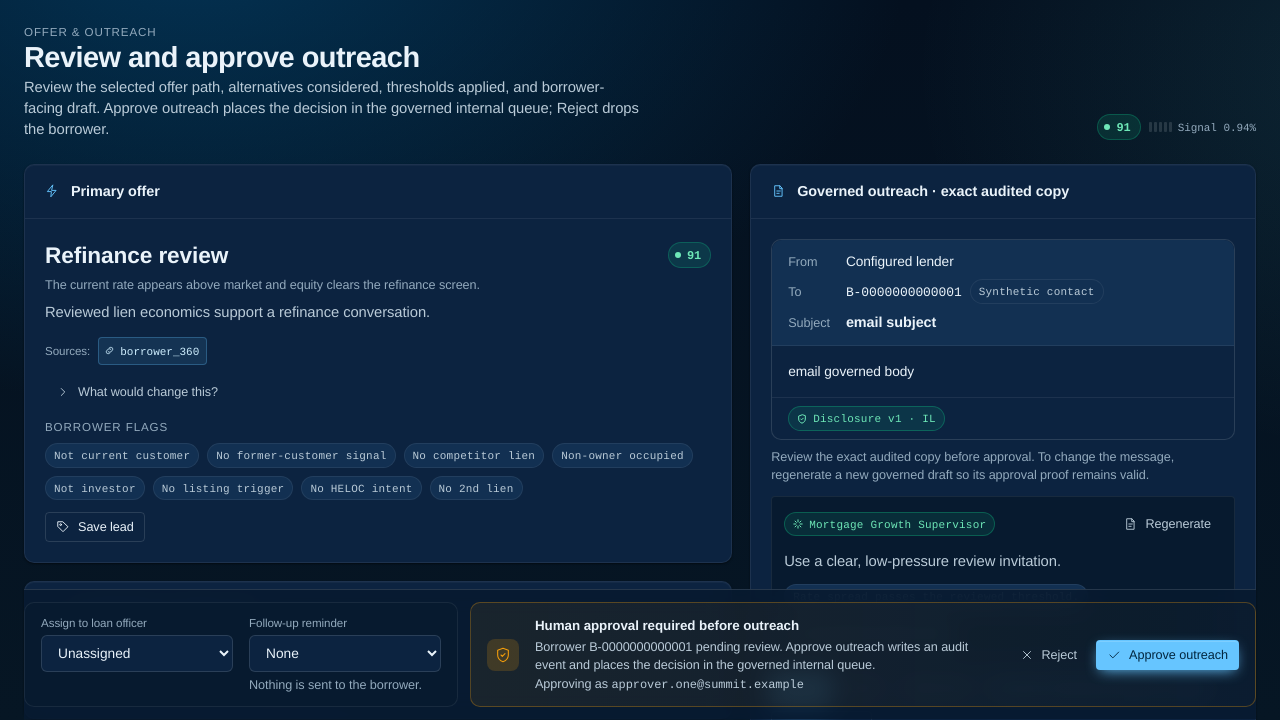
Test case: OfferOrchestrator route behavior › shows the durable audit reference after a rejection succeeds
Step 1. Click the button "Reject" → (1048, 655), box [1008,640,1088,670]
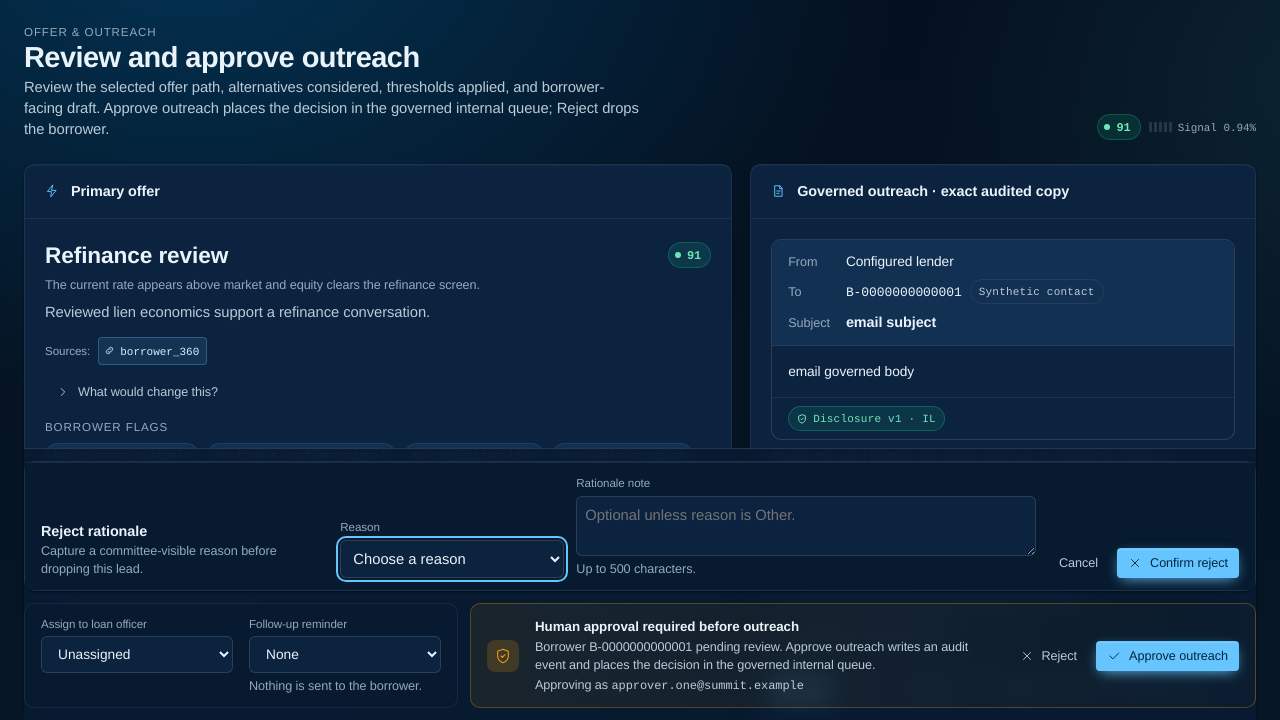
Step 2. Select "Low intent" in the dropdown labelled "Reason" → (452, 558), box [340,540,564,578]
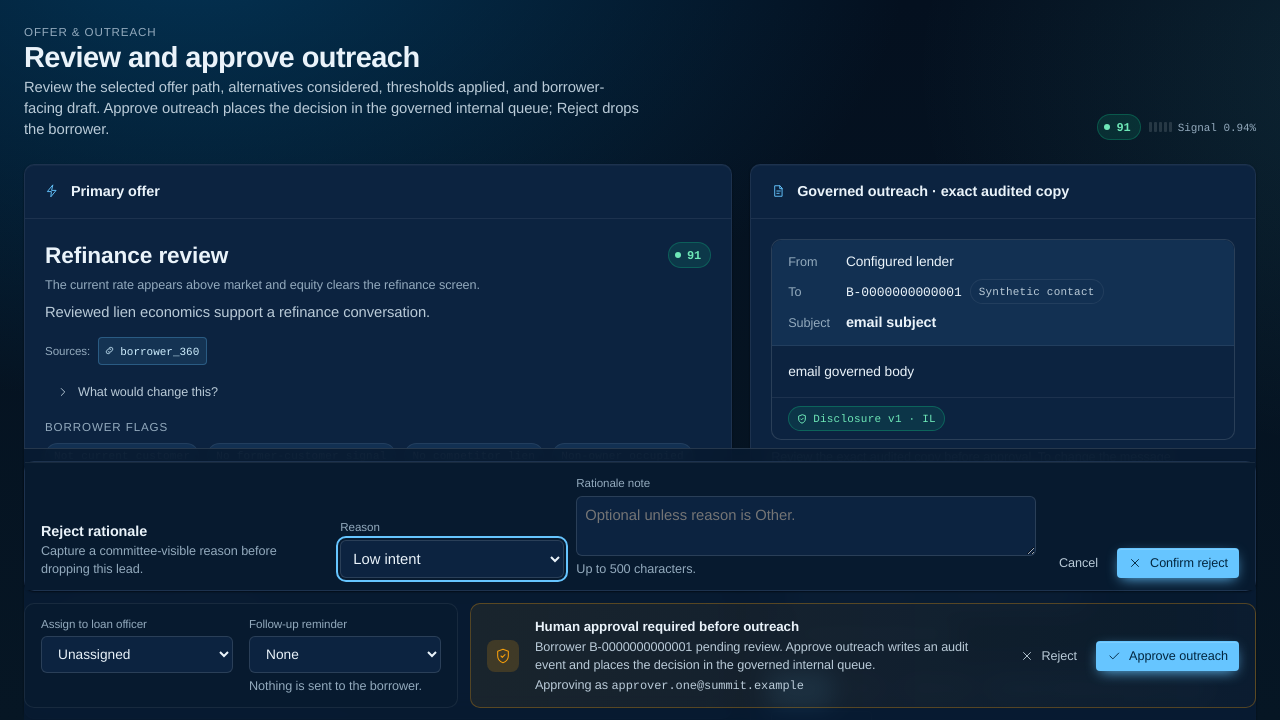
Step 3. Click the button "Confirm reject" → (1178, 562), box [1117,548,1239,578]
(page scrolled)
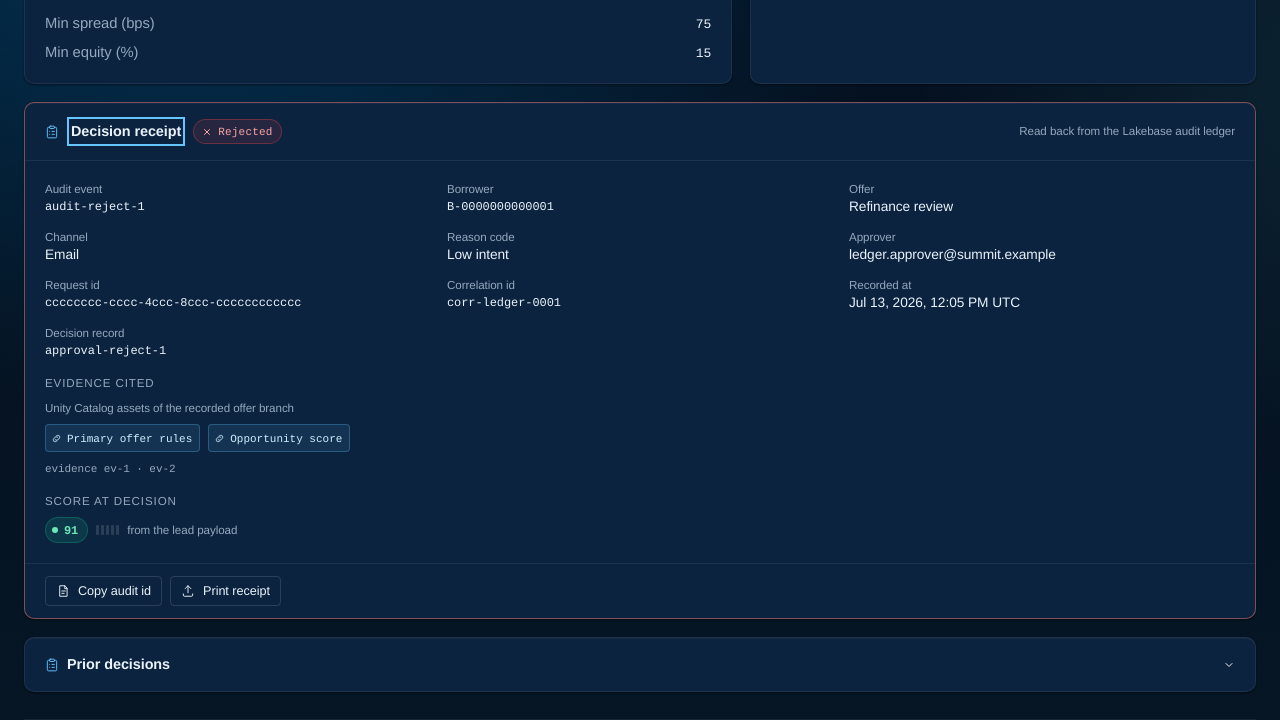
Check: the element with test id "decision-receipt" shows "Rejected", box [218,124,273,138]
Check: the element with test id "decision-receipt" shows "Low intent", box [447,246,509,263]
